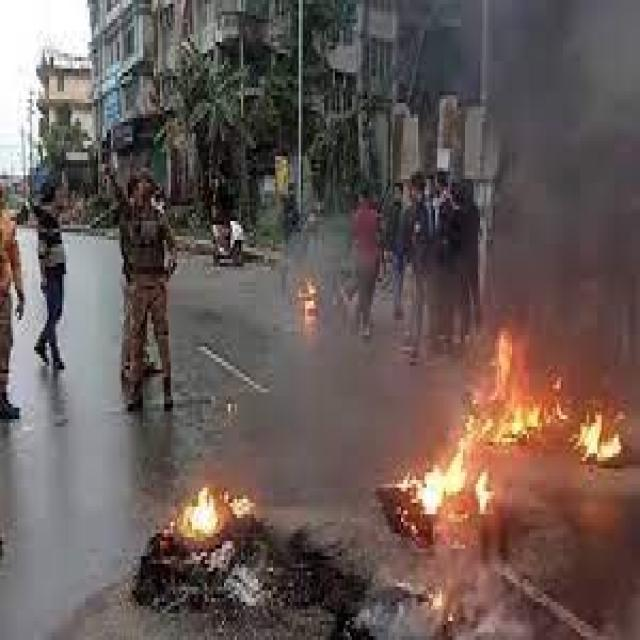Fire: (467, 324, 623, 466), (402, 441, 500, 534), (178, 486, 255, 534), (298, 270, 323, 310)
Smoke: (446, 0, 640, 320), (216, 274, 467, 482), (502, 467, 640, 640), (363, 534, 531, 640), (256, 484, 360, 584), (399, 0, 446, 156), (292, 218, 356, 270), (359, 480, 404, 532)
